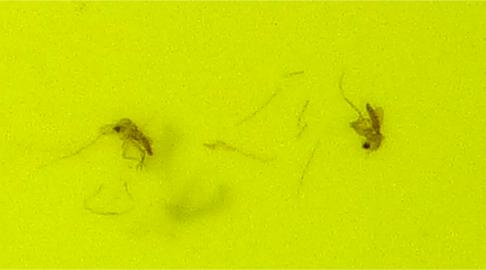Nematocera: (100, 116, 157, 170), (347, 100, 386, 154)
